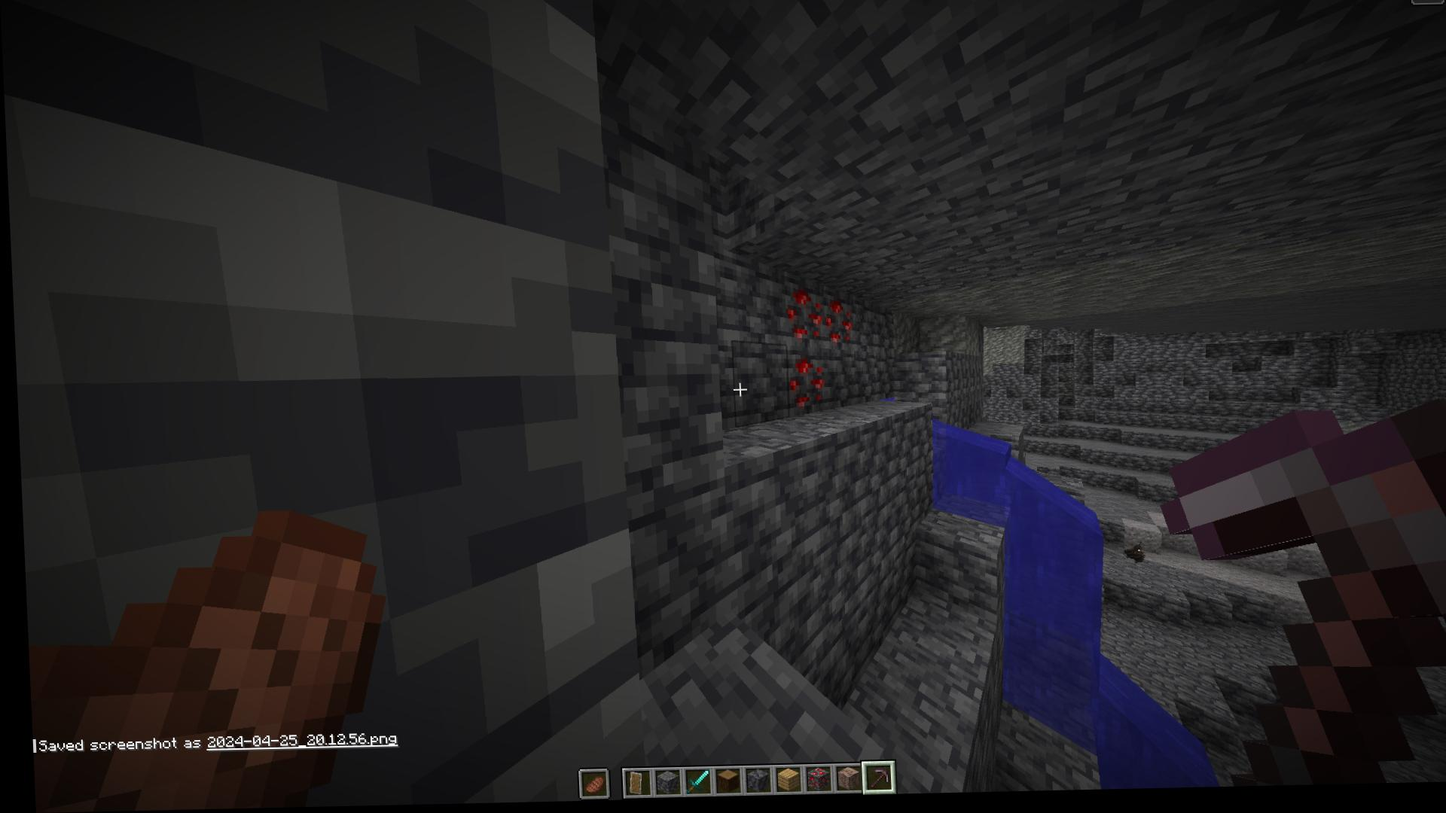redstone ore: (773, 279, 825, 352), (780, 357, 828, 417), (821, 289, 858, 359)
